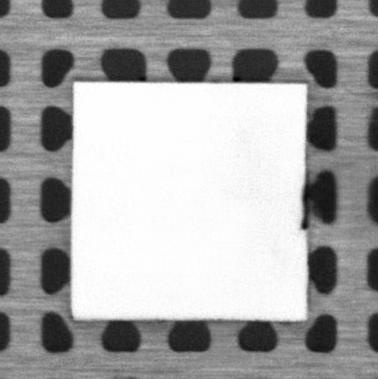DIE_BROKEN: (299, 183, 310, 232)
